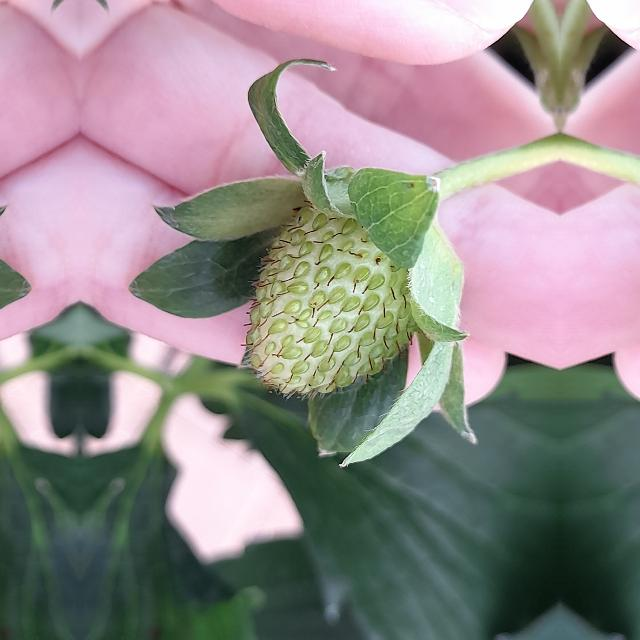Health_25: (240, 202, 420, 400)
